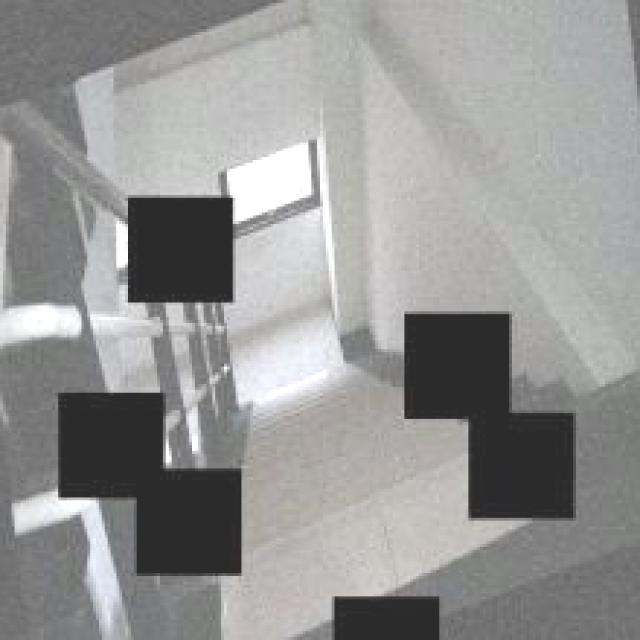downstair: (245, 338, 397, 580)
